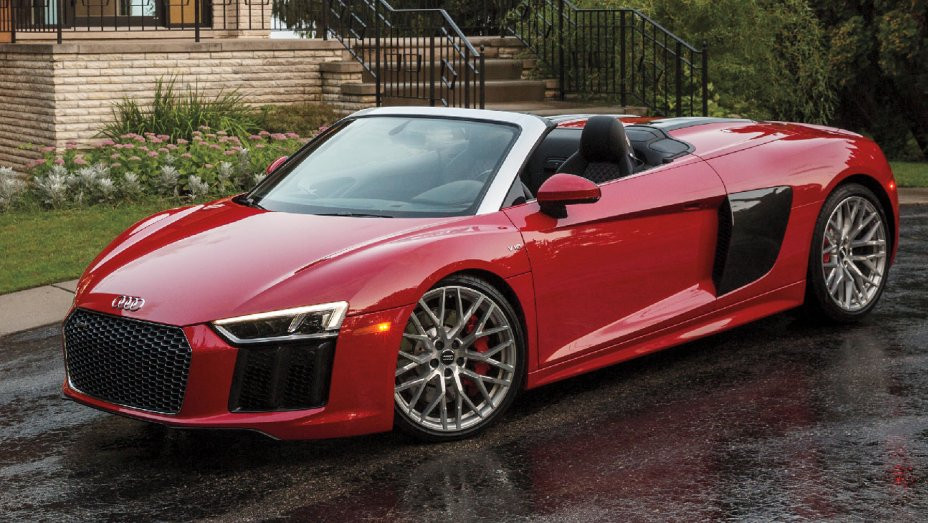car: (57, 102, 906, 436)
